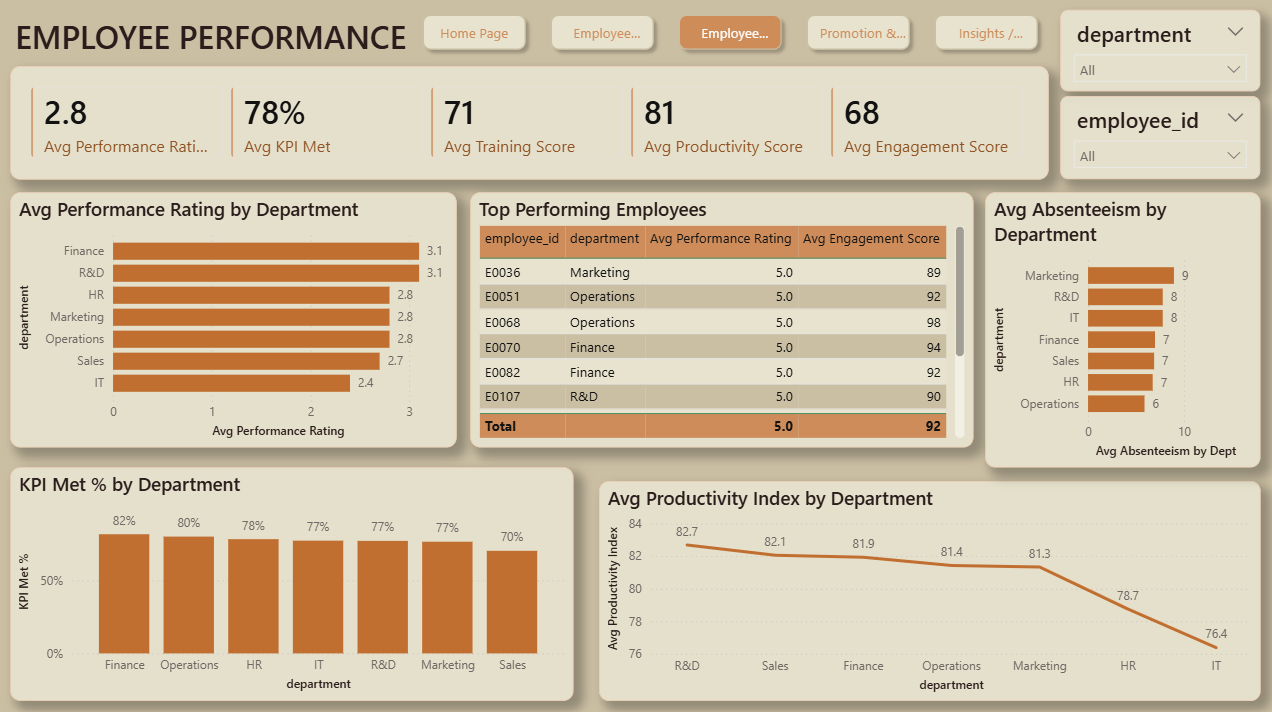

The page's visual inventory and layout, read from the dashboard file:
{"tool":"powerbi","page":{"name":"Employee Performance","canvas":[1280,720],"ordinal":2},"visuals":[{"type":"cardVisual","fields":{"Data":["CPM_Properties_Performance_n_Promotion (1).Avg Performance Rating","CPM_Properties_Performance_n_Promotion (1).Avg KPI Met","CPM_Properties_Performance_n_Promotion (1).Avg Training Score","CPM_Properties_Performance_n_Promotion (1).Avg Productivity Score","CPM_Properties_Performance_n_Promotion (1).Avg Engagement Score"]},"box":[11.7,70,1038.3,113.3],"z":0},{"type":"textbox","box":[11.7,13.3,405,56.7],"z":1000},{"type":"slicer","fields":{"Values":["CPM_Properties_Performance_n_Promotion (1).department"]},"box":[1061.7,13.3,200,81.7],"z":2000},{"type":"slicer","fields":{"Values":["CPM_Properties_Performance_n_Promotion (1).employee_id"]},"box":[1061.7,100,200,83.3],"z":3000},{"type":"clusteredBarChart","title":"Avg Performance Rating by Department","fields":{"Category":["CPM_Properties_Performance_n_Promotion (1).department"],"Y":["CPM_Properties_Performance_n_Promotion (1).Avg Performance Rating"]},"box":[11.7,196.7,446.7,255],"z":4000},{"type":"tableEx","title":"Top Performing Employees","fields":{"Values":["CPM_Properties_Performance_n_Promotion (1).employee_id","CPM_Properties_Performance_n_Promotion (1).department","CPM_Properties_Performance_n_Promotion (1).Avg Performance Rating","CPM_Properties_Performance_n_Promotion (1).Avg Engagement Score"]},"box":[471.7,196.7,503.3,255],"z":5000},{"type":"clusteredColumnChart","title":"KPI Met % by Department","fields":{"Category":["CPM_Properties_Performance_n_Promotion (1).department"],"Y":["CPM_Properties_Performance_n_Promotion (1).KPI Met %"]},"box":[11.7,471.7,563.3,233.3],"z":6000},{"type":"lineChart","title":"Avg Productivity Index by Department","fields":{"Category":["CPM_Properties_Performance_n_Promotion (1).department"],"Y":["CPM_Properties_Performance_n_Promotion (1).Avg Productivity Index"]},"box":[600,485,661.7,220],"z":7000},{"type":"clusteredBarChart","title":"Avg Absenteeism by Department","fields":{"Category":["CPM_Properties_Performance_n_Promotion (1).department"],"Y":["CPM_Properties_Performance_n_Promotion (1).Avg Absenteeism by Dept"]},"box":[986.7,196.7,275,275],"z":8000},{"type":"pageNavigator","box":[416.7,11.7,633.3,50],"z":8001}]}

Visuals, with their boxes in screenshot pixels (x1, y1, x2, y2), scaled from the page's 1280x720 canvas onto the 1272x712 screenshot:
cardVisual - CPM_Properties_Performance_n_Promotion (1).Avg Performance Rating x CPM_Properties_Performance_n_Promotion (1).Avg KPI Met: [12, 69, 1043, 181]
textbox: [12, 13, 414, 69]
slicer - CPM_Properties_Performance_n_Promotion (1).department: [1055, 13, 1254, 94]
slicer - CPM_Properties_Performance_n_Promotion (1).employee_id: [1055, 99, 1254, 181]
"Avg Performance Rating by Department" clusteredBarChart: [12, 195, 456, 447]
"Top Performing Employees" tableEx: [469, 195, 969, 447]
"KPI Met % by Department" clusteredColumnChart: [12, 466, 571, 697]
"Avg Productivity Index by Department" lineChart: [596, 480, 1254, 697]
"Avg Absenteeism by Department" clusteredBarChart: [981, 195, 1254, 466]
pageNavigator: [414, 12, 1043, 61]
